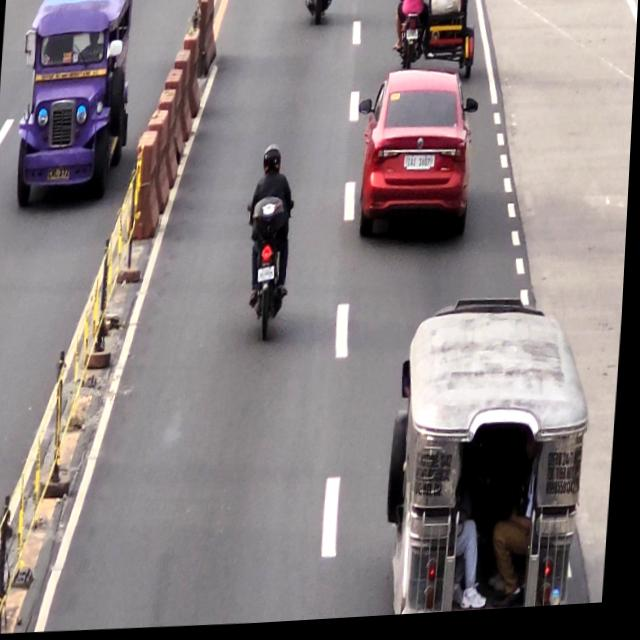Car: (363, 69, 470, 234)
Jeep: (395, 304, 588, 620)
License-Plate: (406, 158, 440, 177)
Motorcycle: (247, 147, 299, 340)
